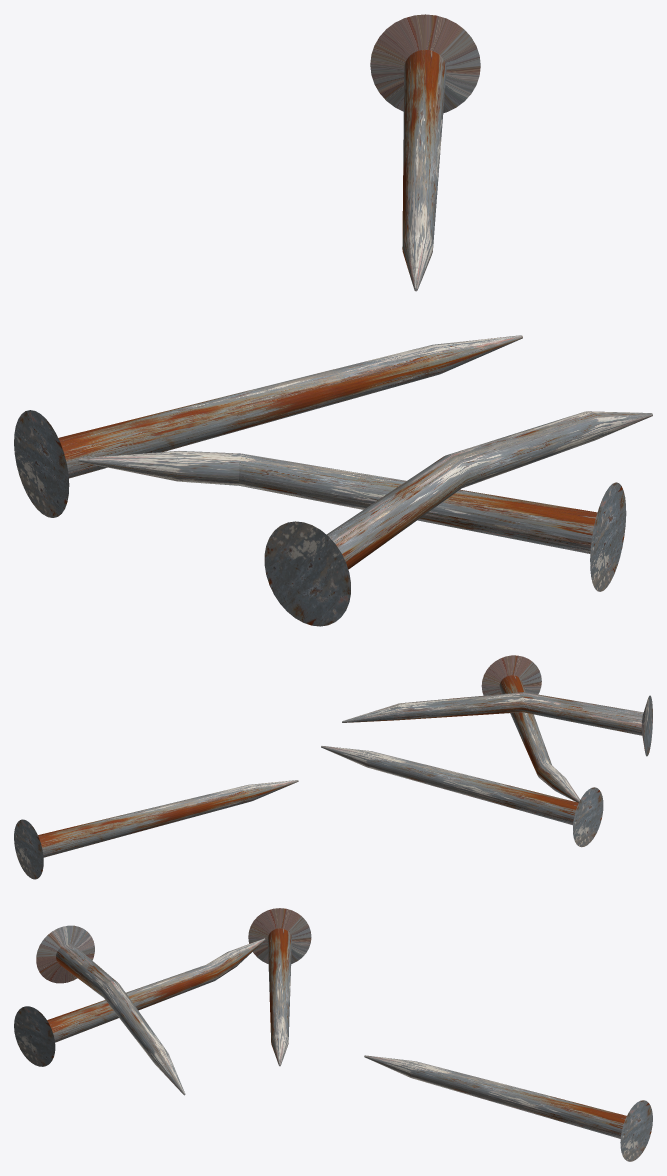
The model's file is naegel.glb.
The picture shows the model from 3 angles, top to bottom: view 1: azimuth 30°, elevation 25°; view 2: azimuth 150°, elevation 25°; view 3: azimuth 270°, elevation 25°; orthographic projection. The views are drawn at different scales.
Parts seen in each view (by area): view 1: Cylinder.003, Cylinder.002, Cylinder.005, Cylinder.004; view 2: Cylinder.004, Cylinder.003, Cylinder.002, Cylinder.005; view 3: Cylinder.004, Cylinder.005, Cylinder.002, Cylinder.003.
Boxes of the visible parts, x1,y1,x2,y2 form: Cylinder.003: (14,335,522,517); Cylinder.002: (264,411,652,626); Cylinder.005: (78,451,626,591); Cylinder.004: (370,14,480,291); Cylinder.004: (14,780,298,879); Cylinder.003: (321,746,603,847); Cylinder.002: (342,692,652,756); Cylinder.005: (481,655,580,802); Cylinder.004: (364,1055,652,1161); Cylinder.005: (14,938,265,1066); Cylinder.002: (36,925,185,1095); Cylinder.003: (248,908,311,1066).
Size of the model in its own units: 2.5 by 0.3583 by 3.29.
Materials: 1 (1 with a texture image).
